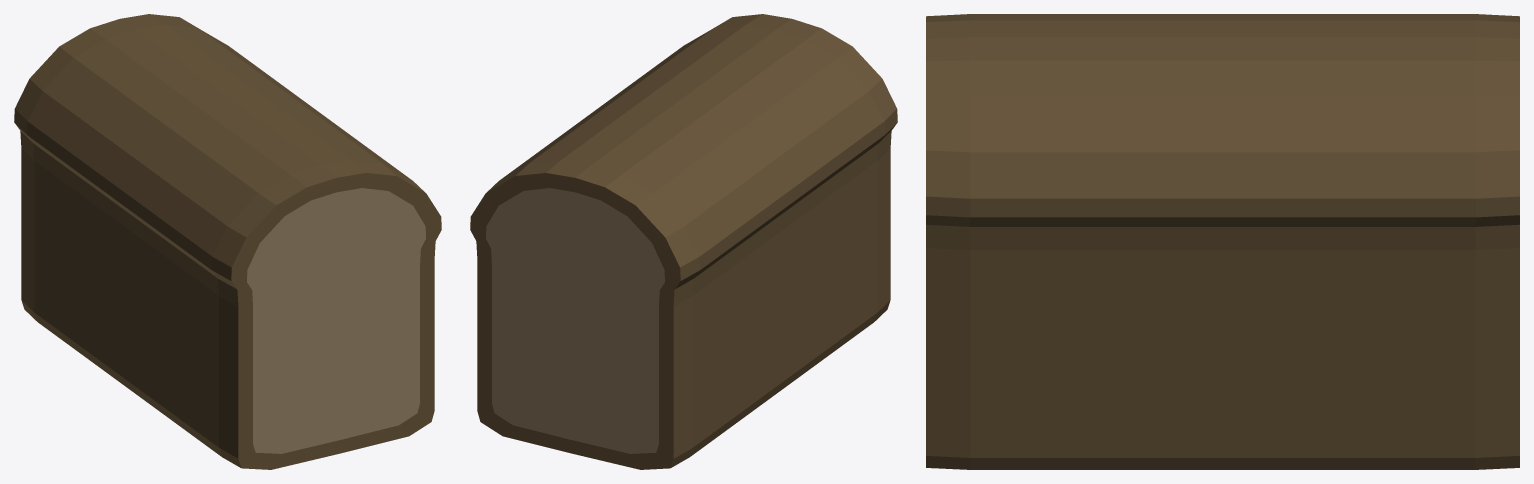
Rendered from Bread.obj.
3 views of the same model, side by side, from view 1: azimuth 30°, elevation 25°; view 2: azimuth 150°, elevation 25°; view 3: azimuth 270°, elevation 25° (orthographic). The views are drawn at different scales.
Visible parts, largest first — view 1: mesh_1, mesh_0; view 2: mesh_1, mesh_0; view 3: mesh_1.
Part boxes in pixels (box(x1,y1,x2,y2)): mesh_1: box(14, 14, 441, 469); mesh_0: box(247, 188, 425, 453); mesh_1: box(470, 14, 897, 469); mesh_0: box(486, 188, 664, 453); mesh_1: box(926, 14, 1519, 469).
Bounding box in the file's own units: 0.6933 × 0.847 × 1.2.
